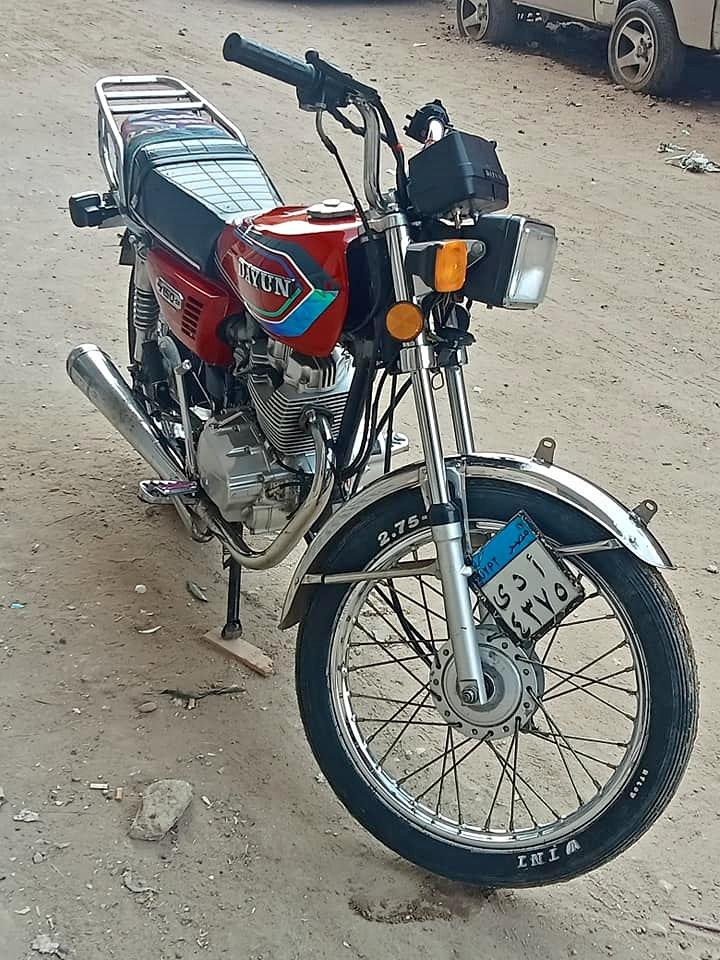License Plate: (468, 516, 574, 642)
